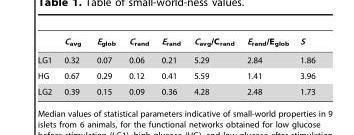table: (37, 36, 314, 95)
table column: (239, 36, 293, 95), (186, 36, 239, 95), (87, 36, 121, 95), (121, 36, 154, 95), (154, 36, 186, 95), (57, 36, 87, 95), (293, 36, 314, 95), (37, 36, 57, 95)
table column header: (37, 36, 314, 50)
table row: (37, 50, 314, 67), (37, 67, 314, 83), (37, 36, 314, 50), (37, 83, 314, 95)
